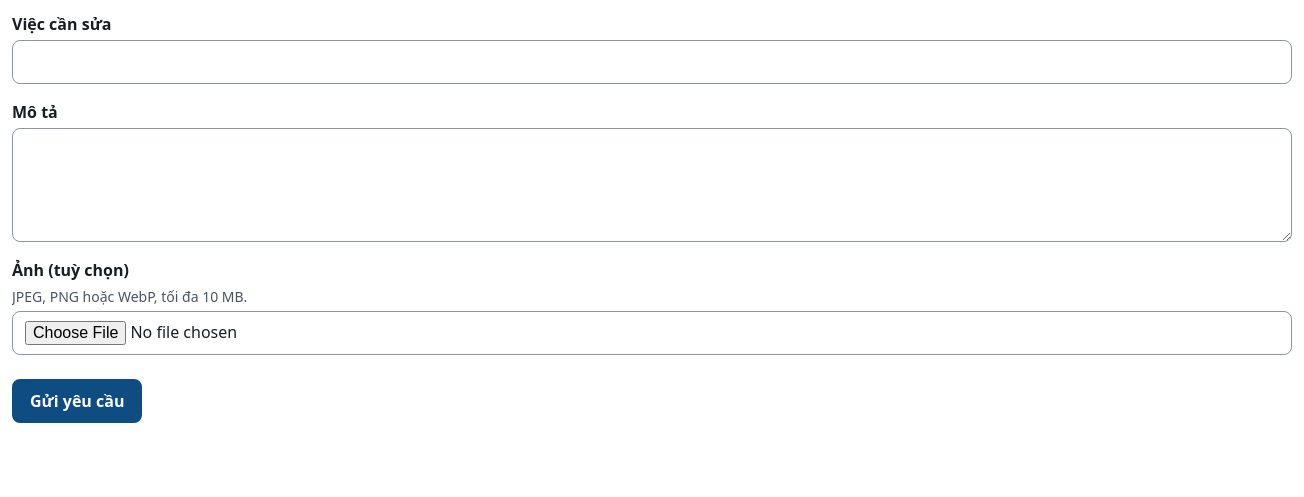
RequestForm › để trống tiêu đề và mô tả: hai lỗi theo ô, không gửi gì
Click the button "Gửi yêu cầu" at x=77, y=401, box [12,379,142,423]
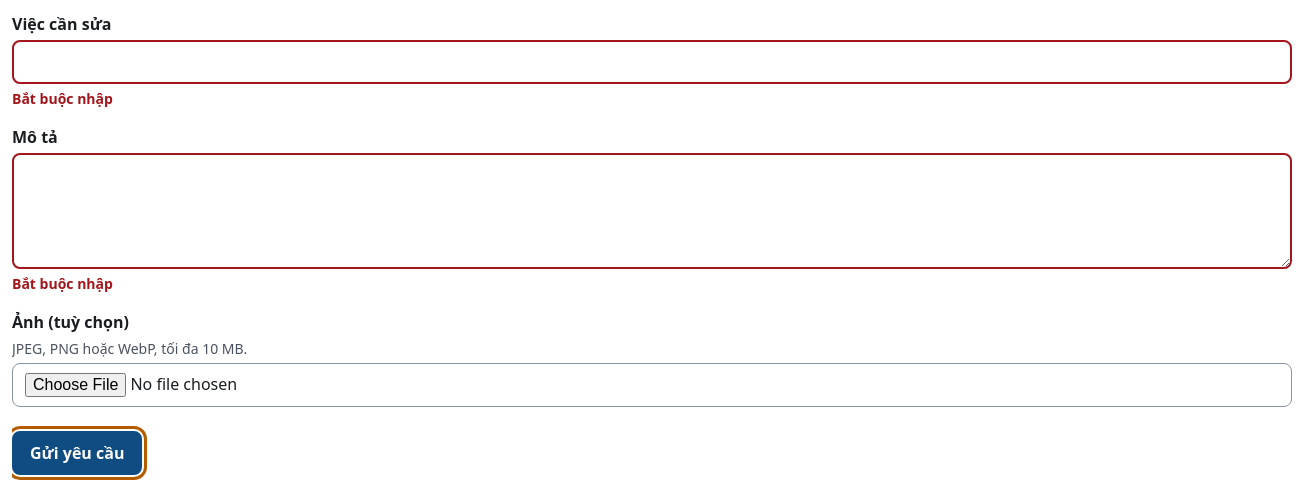
Now the messages read "Bắt buộc nhập", "Bắt buộc nhập", in this order, box [12,89,113,108]; [12,274,113,293]
